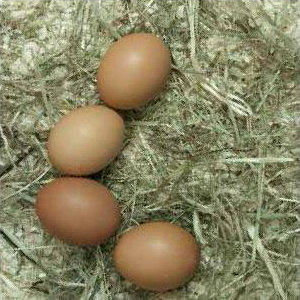egg: (110, 216, 202, 295), (34, 178, 125, 252), (95, 33, 172, 112), (47, 106, 125, 178)
